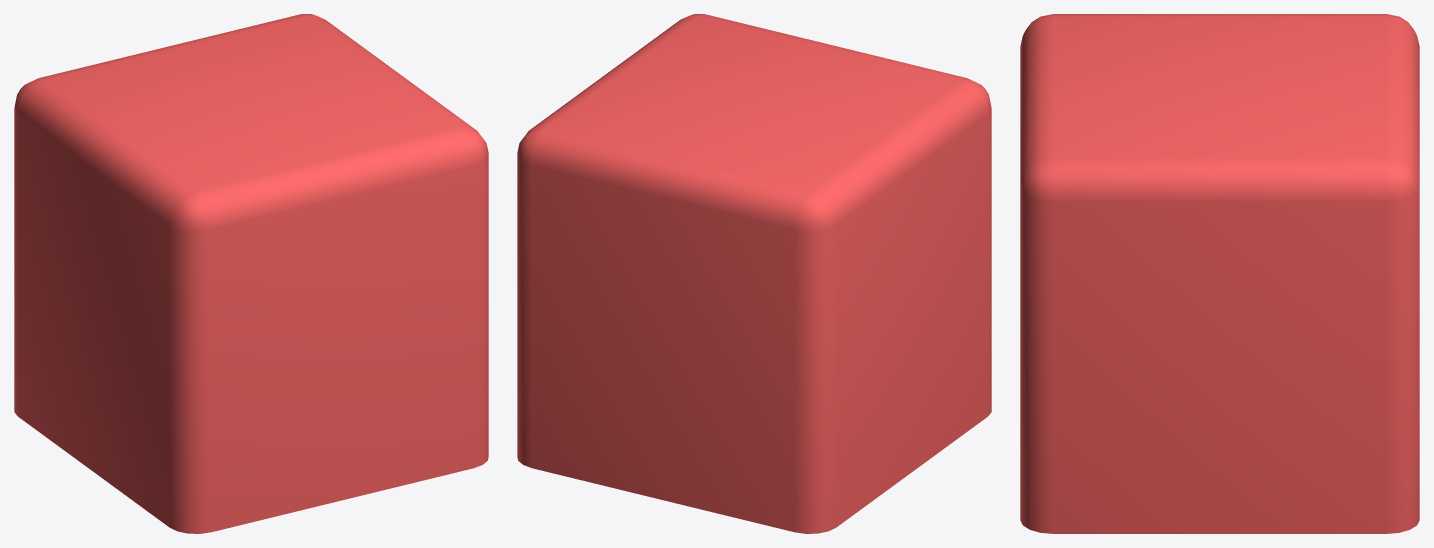
File: obstacle_slidecube_small.FBX
3 views of the same model, side by side, from view 1: azimuth 30°, elevation 25°; view 2: azimuth 150°, elevation 25°; view 3: azimuth 270°, elevation 25° (orthographic). The views are drawn at different scales.
Visible parts, largest first — view 1: obstacle_slidecube_small; view 2: obstacle_slidecube_small; view 3: obstacle_slidecube_small.
Boxes of the visible parts, bbox=[...] form: obstacle_slidecube_small: bbox=[14, 14, 488, 533]; obstacle_slidecube_small: bbox=[517, 14, 991, 533]; obstacle_slidecube_small: bbox=[1020, 14, 1419, 533].
Bounding box in the file's own units: 3 × 3 × 3.
1 material, 1 textured.
